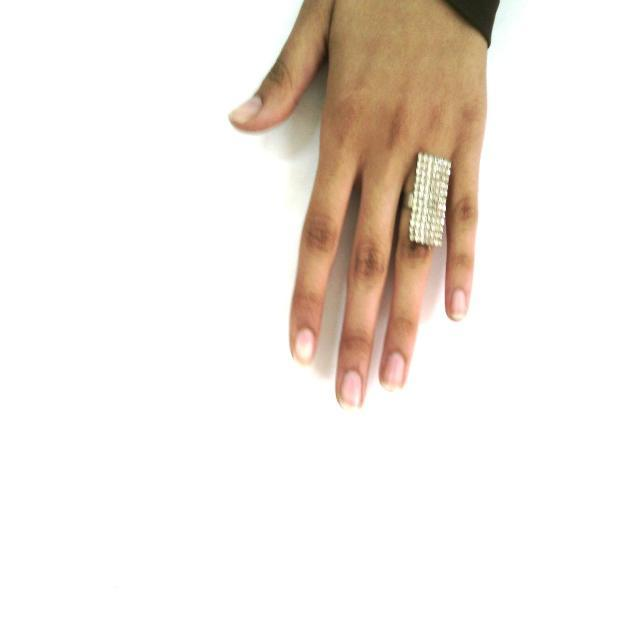Fingernail: (382, 353, 405, 392), (341, 370, 362, 410), (230, 96, 261, 122), (296, 329, 313, 366), (451, 290, 465, 318)
